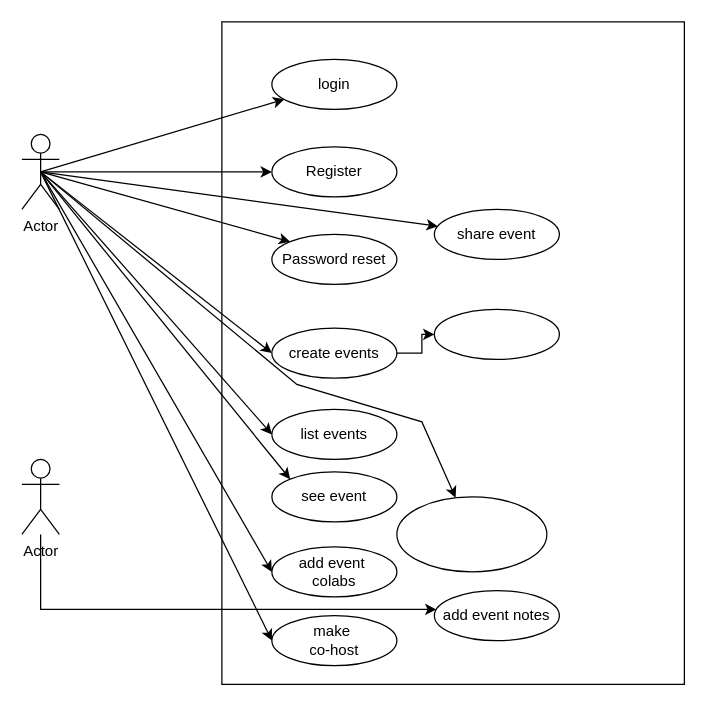
Image size: 706x706. Some labels were removed from this diagram. The shapes that lost their labels are listed below. From the top down, each one's box as (x1, y1, x2, y2) in pixels, then its label:
(433, 308, 559, 359): send event reminder
(396, 496, 547, 572): remove/delete event colabs
